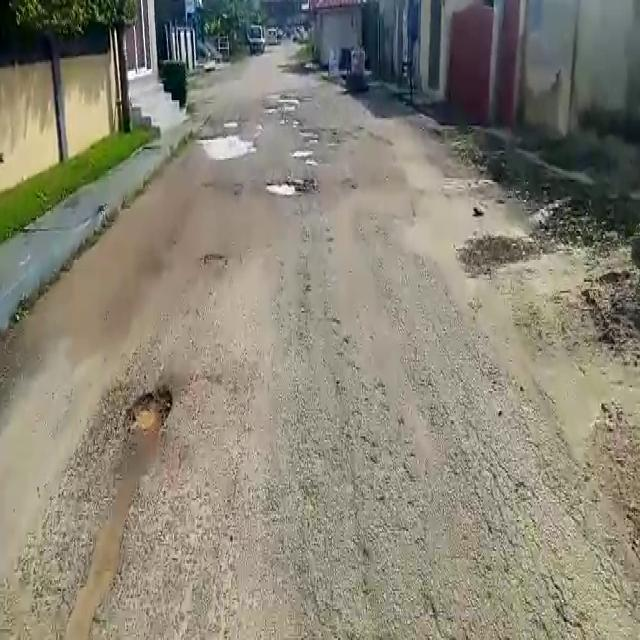Pothole: (124, 385, 172, 437), (200, 129, 254, 158), (262, 176, 310, 197), (293, 148, 321, 160)
